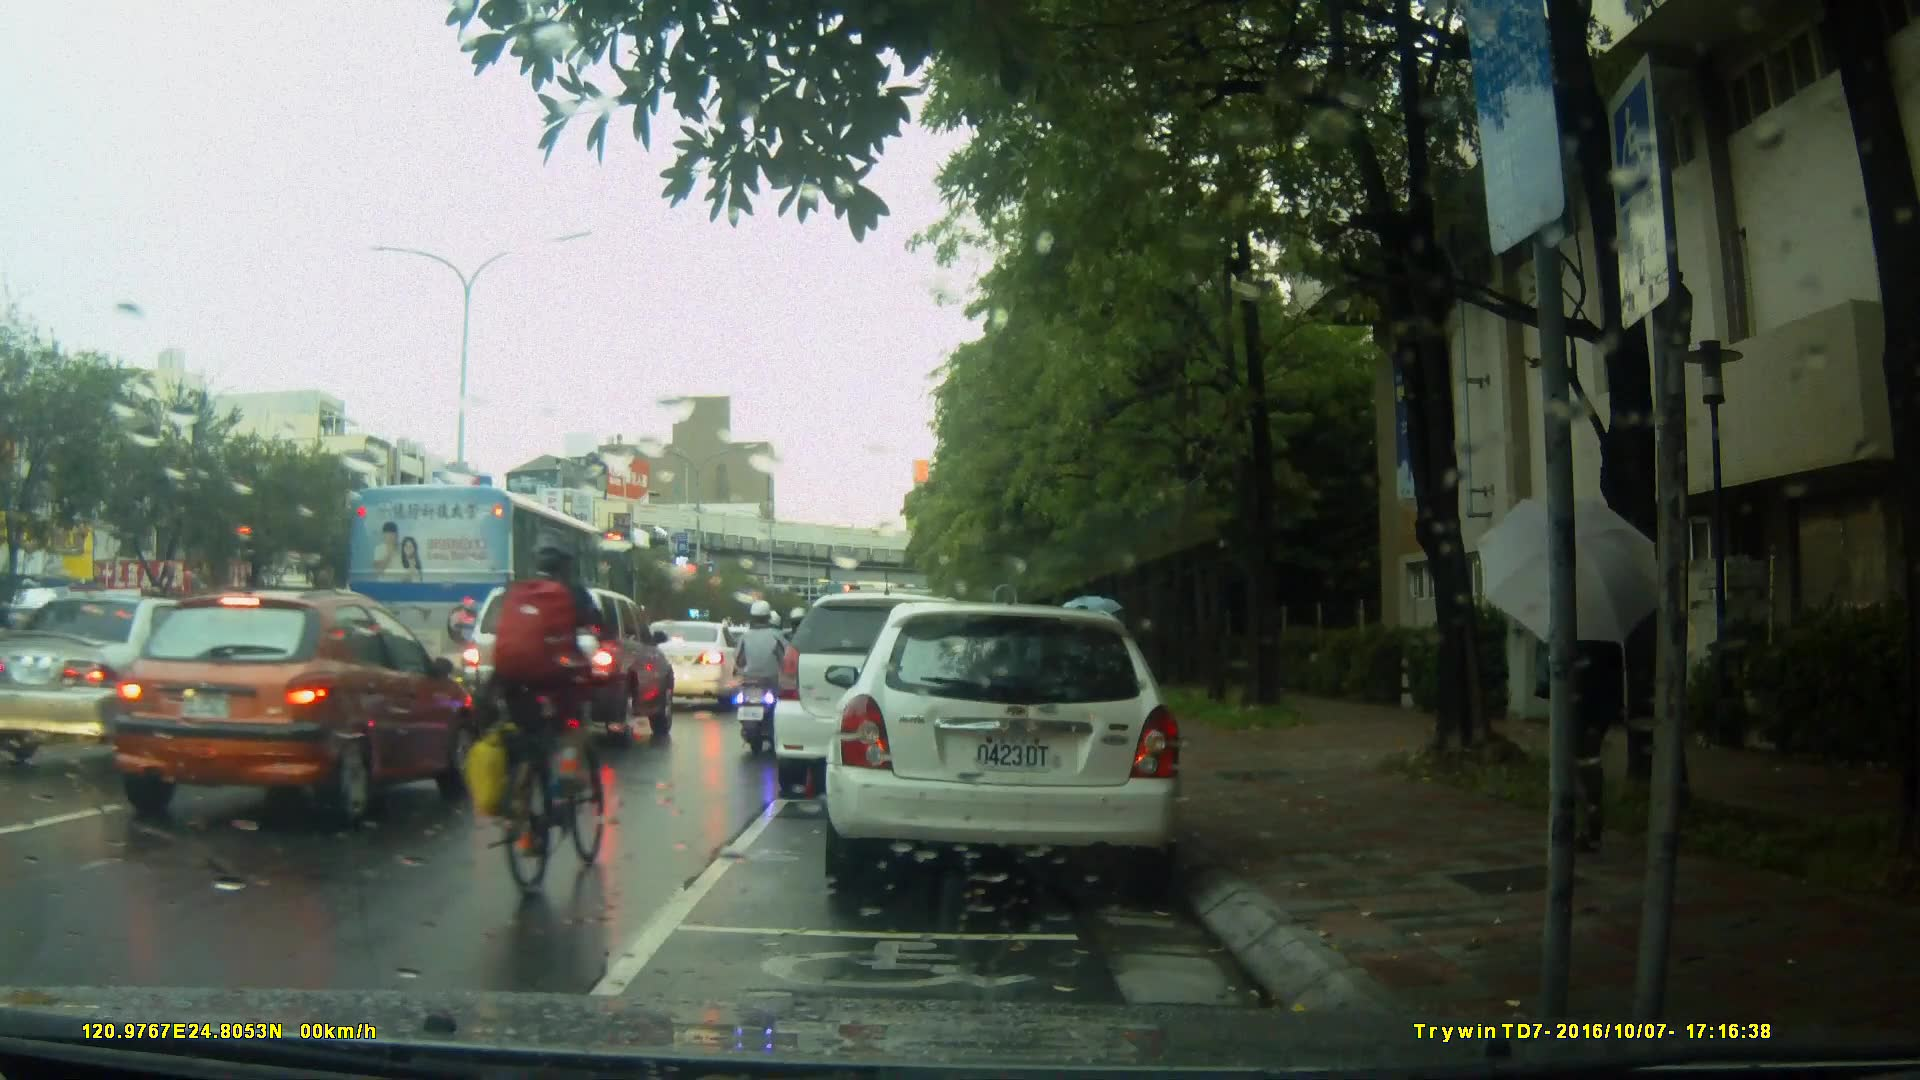pedestrian: (1532, 528, 1662, 870)
rider: (473, 537, 610, 896), (738, 598, 801, 752), (772, 605, 824, 731)
vehicle: (835, 594, 1194, 898), (97, 589, 474, 837), (347, 482, 642, 731), (1, 590, 276, 773), (776, 590, 1026, 784), (454, 582, 676, 746)
